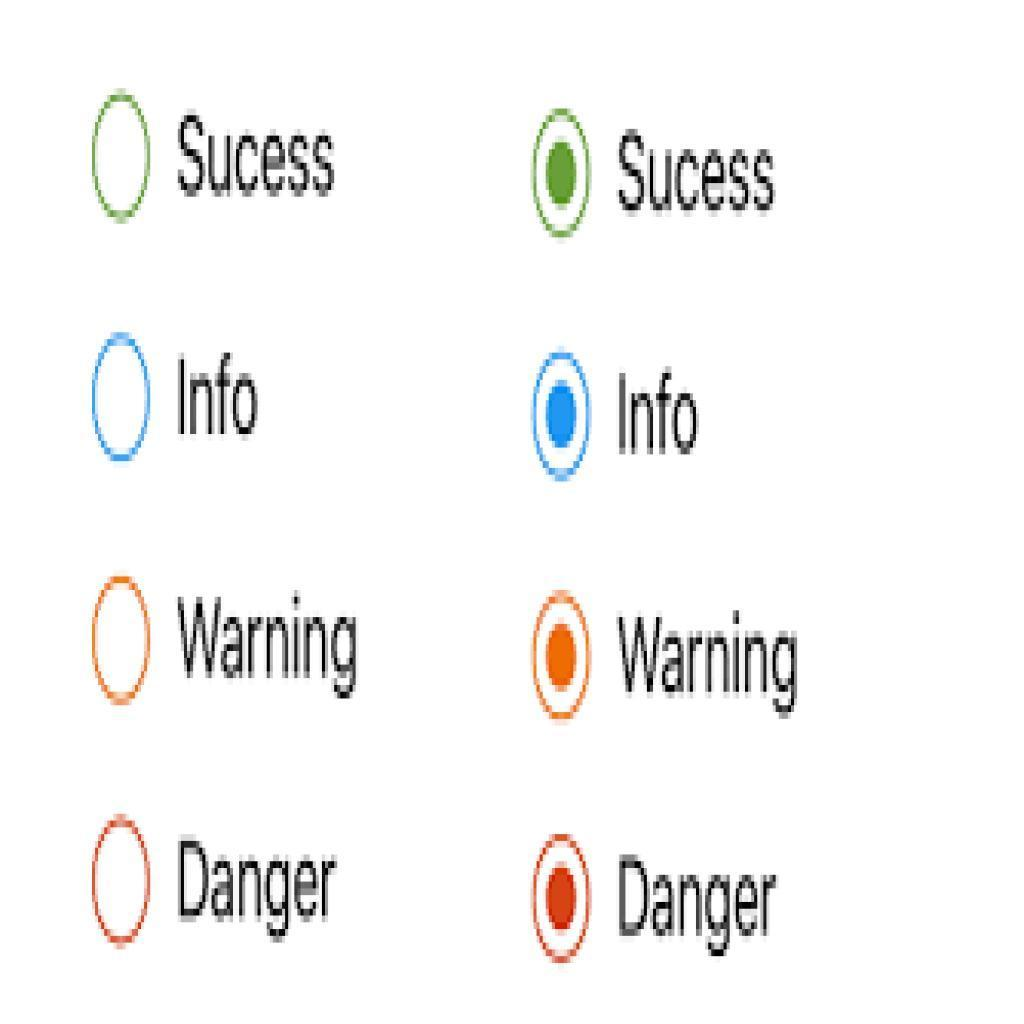radio: (524, 589, 605, 725), (83, 331, 160, 474), (87, 89, 160, 233), (527, 832, 599, 965), (528, 105, 595, 246), (88, 817, 156, 954), (527, 352, 598, 483), (91, 577, 155, 710)
